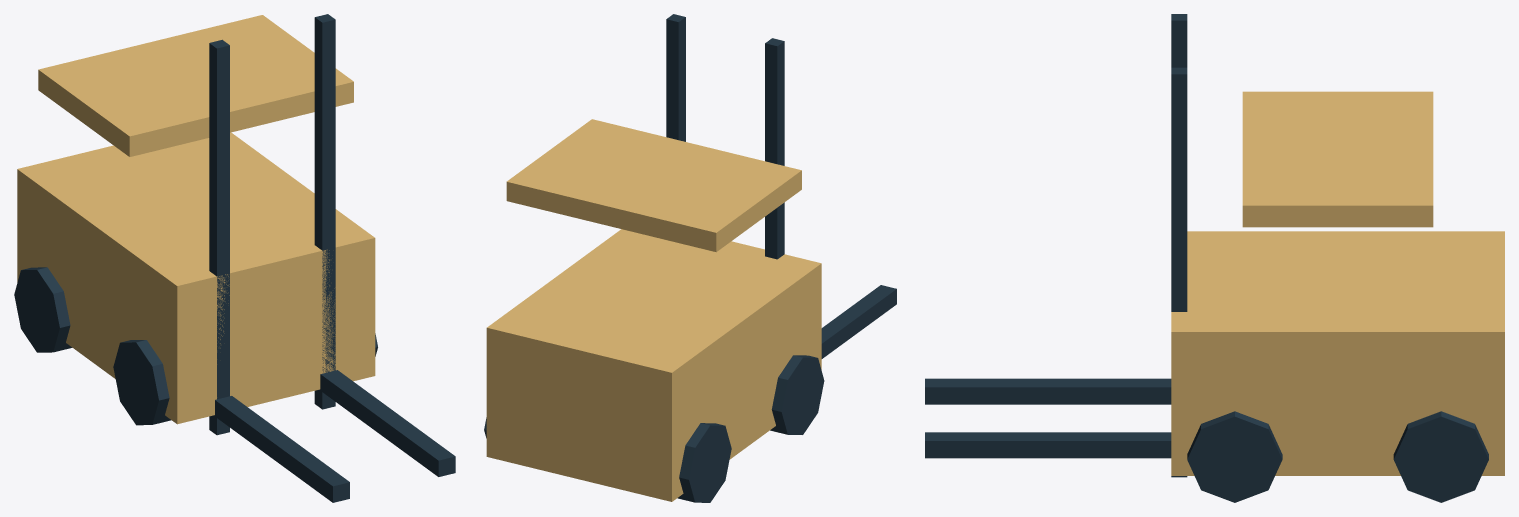
Rendered from forklift.obj.
3 views of the same model, side by side, from view 1: azimuth 30°, elevation 25°; view 2: azimuth 150°, elevation 25°; view 3: azimuth 270°, elevation 25° (orthographic). The views are drawn at different scales.
Visible parts, largest first — view 1: forklift; view 2: forklift; view 3: forklift.
Boxes of the visible parts, x1,y1,x2,y2 form: forklift: [14, 14, 455, 502]; forklift: [484, 14, 896, 502]; forklift: [925, 14, 1504, 502].
Size of the model in its own units: 1.7 by 2.8 by 3.65.
